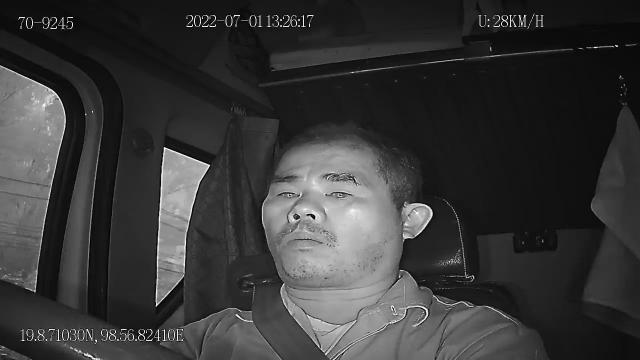SafeDriving: (316, 166, 363, 204), (318, 177, 361, 206), (269, 179, 305, 205)
Seatbelt: (248, 280, 334, 360)
